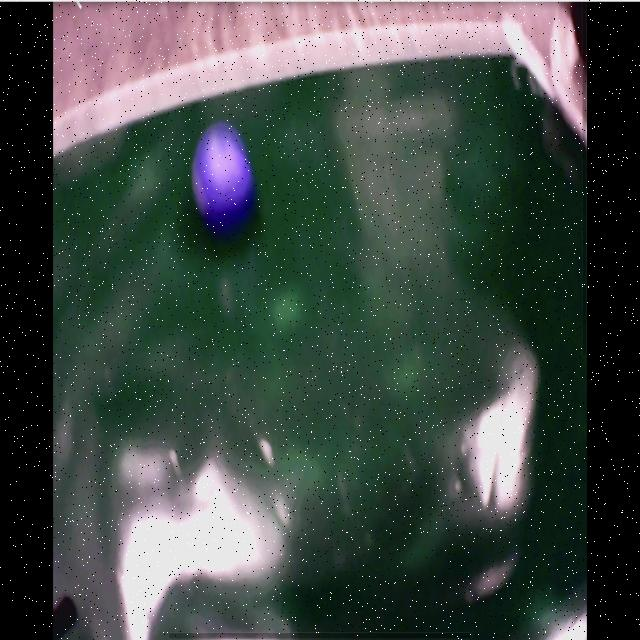ball: (189, 137, 253, 222)
